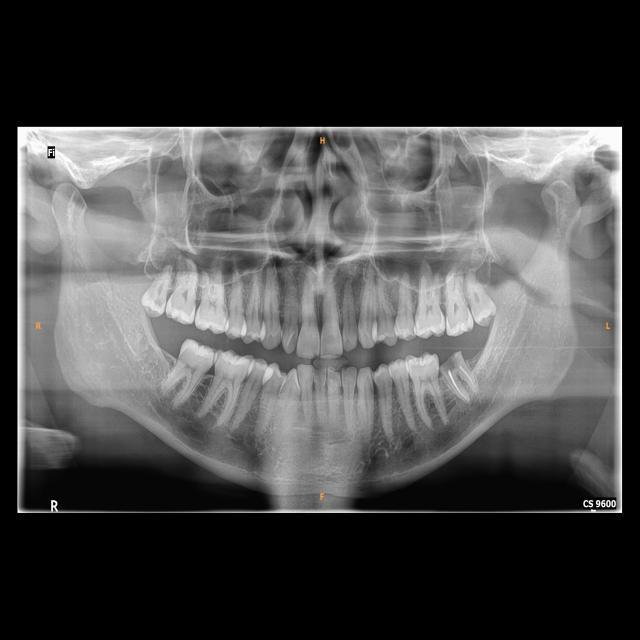dentin-curugu: (438, 350, 469, 380)
kanal-tedavisi: (446, 373, 486, 402)
